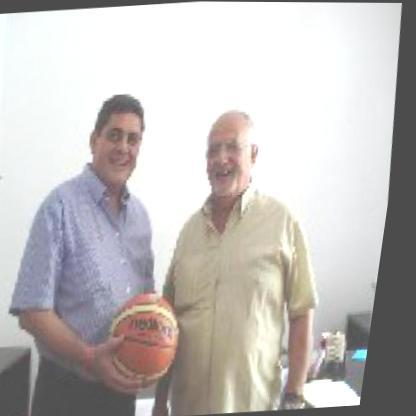basketball: (109, 288, 201, 394)
